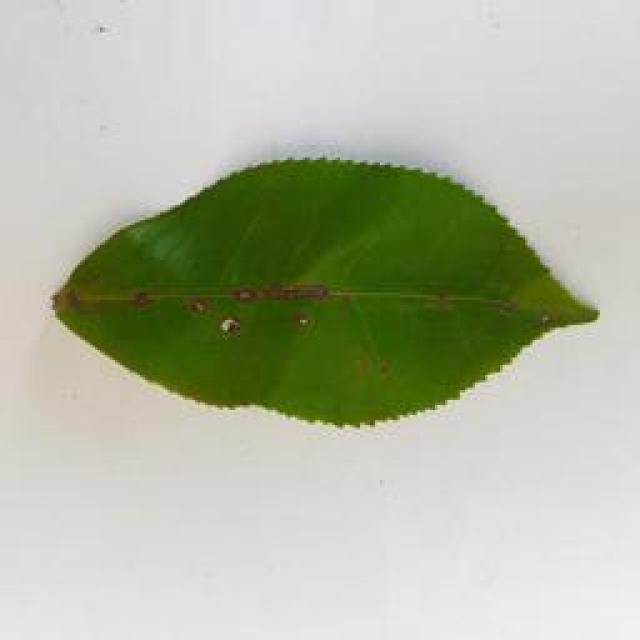Helopeltis: (43, 149, 609, 432)
